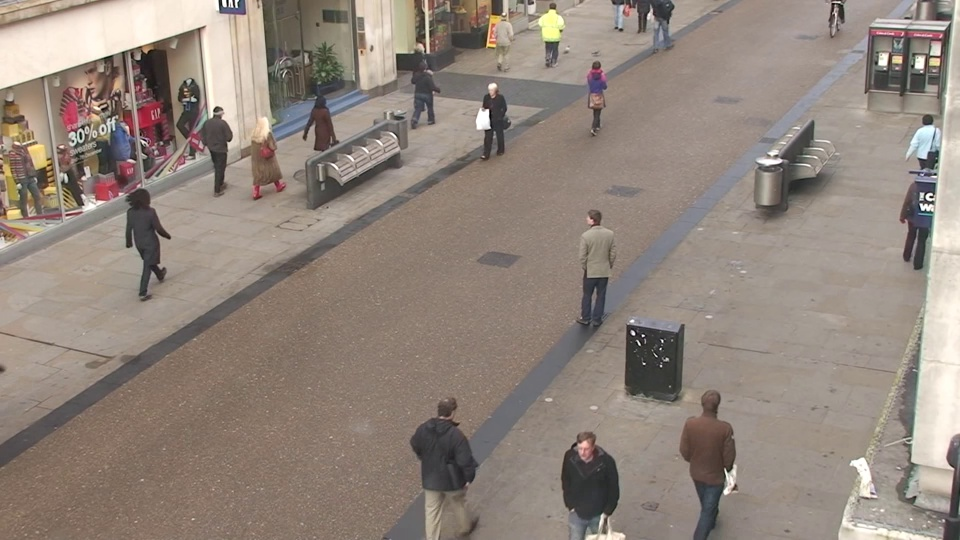pedestrian: (679, 380, 737, 540), (422, 386, 477, 540), (556, 424, 611, 540), (119, 184, 167, 295), (575, 203, 613, 323), (901, 110, 947, 208), (248, 111, 283, 203), (203, 101, 239, 190), (306, 91, 338, 179), (479, 80, 509, 165), (409, 59, 437, 138), (583, 57, 609, 136), (406, 40, 433, 114), (492, 8, 516, 74), (543, 0, 565, 63)
